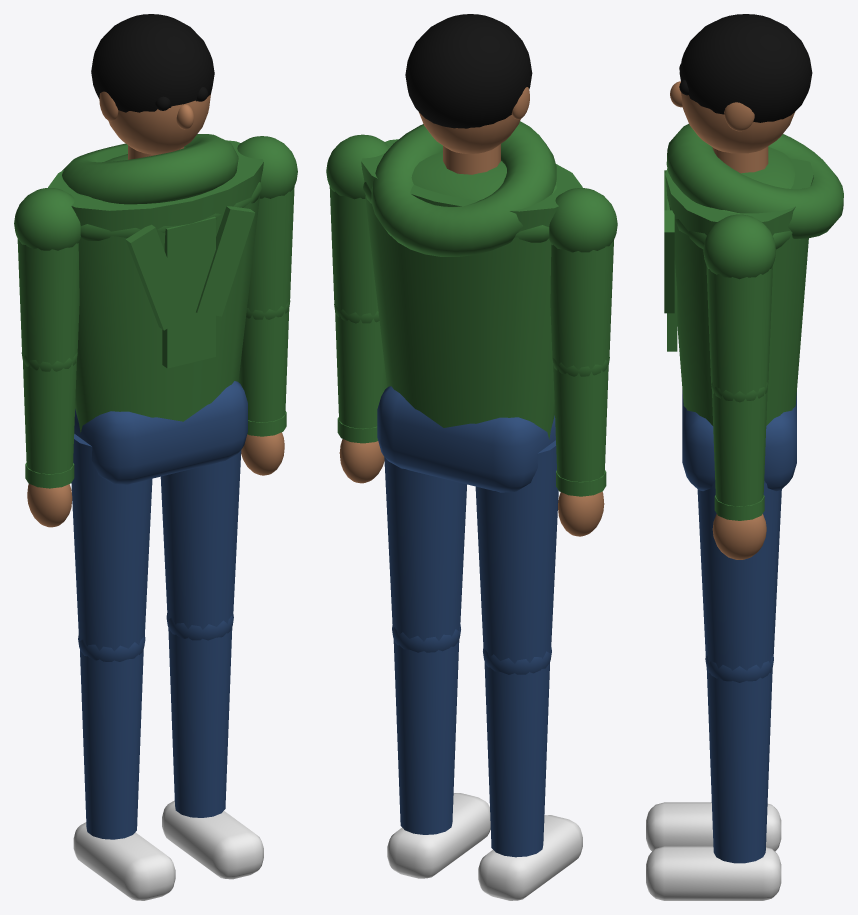
The model's file is chico_casual.glb.
3 renders of one model, left to right at view 1: azimuth 30°, elevation 25°; view 2: azimuth 150°, elevation 25°; view 3: azimuth 270°, elevation 25°, orthographic. The views are drawn at different scales.
Visible parts, largest first — view 1: body, leg_L, leg_R, arm_L, arm_R; view 2: body, leg_L, leg_R, arm_L, arm_R; view 3: body, leg_R, arm_R, leg_L.
Boxes of the visible parts, bbox=[...] form: body: bbox=[48, 14, 263, 484]; leg_L: bbox=[71, 434, 175, 900]; leg_R: bbox=[160, 450, 263, 879]; arm_L: bbox=[14, 188, 80, 527]; arm_R: bbox=[237, 136, 297, 475]; body: bbox=[361, 14, 582, 492]; leg_L: bbox=[475, 440, 582, 900]; leg_R: bbox=[384, 457, 490, 878]; arm_L: bbox=[549, 188, 617, 536]; arm_R: bbox=[326, 134, 388, 483]; body: bbox=[664, 14, 843, 491]; leg_R: bbox=[646, 480, 781, 900]; arm_R: bbox=[703, 214, 775, 559]; leg_L: bbox=[646, 802, 781, 851].
Size of the model in its own units: 0.62 by 1.81 by 0.3802.
